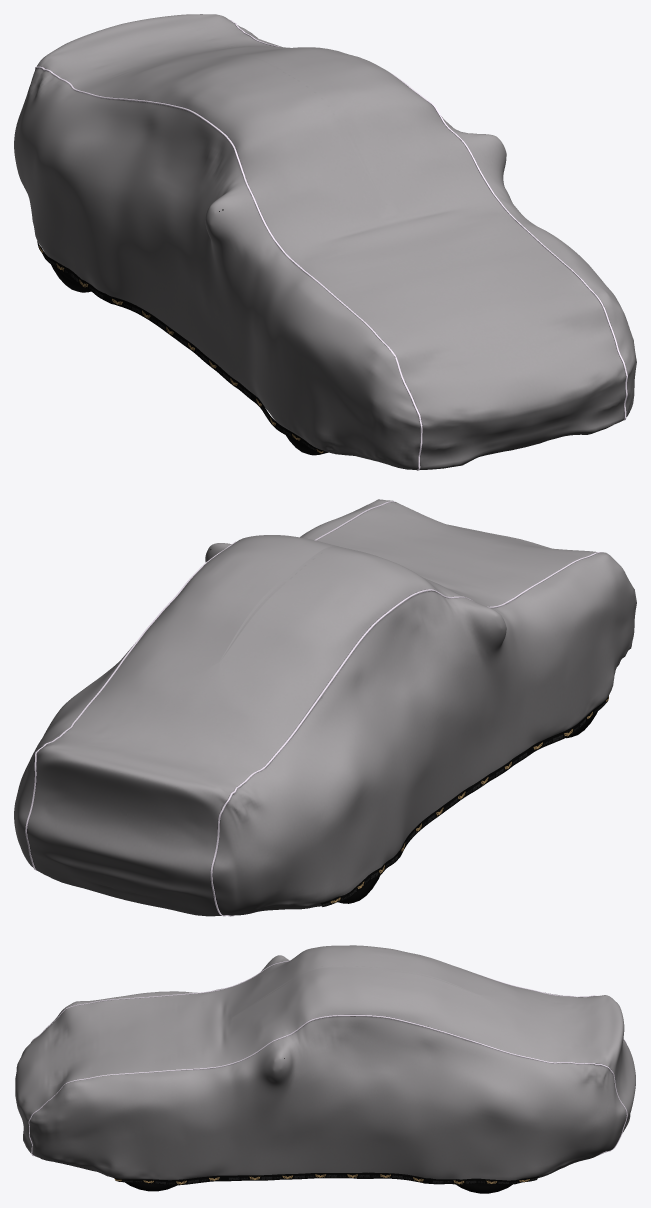
The model's file is esportivo.glb.
The picture shows the model from 3 angles, top to bottom: view 1: azimuth 30°, elevation 25°; view 2: azimuth 150°, elevation 25°; view 3: azimuth 270°, elevation 25°; orthographic projection. The views are drawn at different scales.
Visible parts, largest first — view 1: CAPA, LINHA.001, fita; view 2: CAPA, LINHA.001, fita; view 3: CAPA, fita, LINHA.001, RODA.
Boxes of the visible parts, x1=… form: CAPA: x1=14, y1=14, x2=636, y2=469; LINHA.001: x1=35, y1=19, x2=627, y2=470; fita: x1=37, y1=241, x2=323, y2=453; CAPA: x1=14, y1=499, x2=636, y2=916; LINHA.001: x1=25, y1=501, x2=602, y2=916; fita: x1=320, y1=696, x2=608, y2=906; CAPA: x1=15, y1=945, x2=635, y2=1184; fita: x1=114, y1=1172, x2=538, y2=1185; LINHA.001: x1=28, y1=960, x2=627, y2=1155; RODA: x1=125, y1=1182, x2=512, y2=1193.
Bounding box in the file's own units: 1.75 × 1.32 × 4.25.
5 materials, 3 textured.
